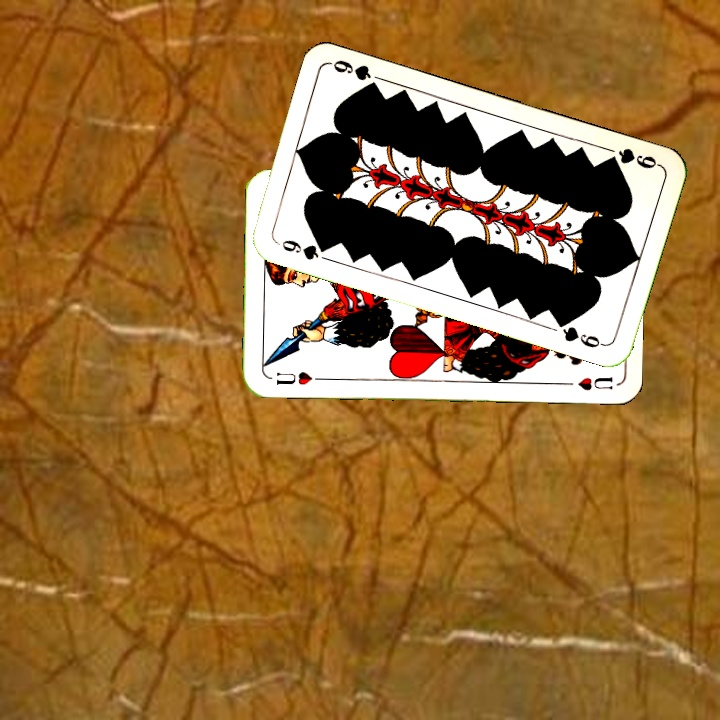G9: (602, 144, 662, 172), (272, 235, 332, 263)
HU: (272, 368, 326, 388)
